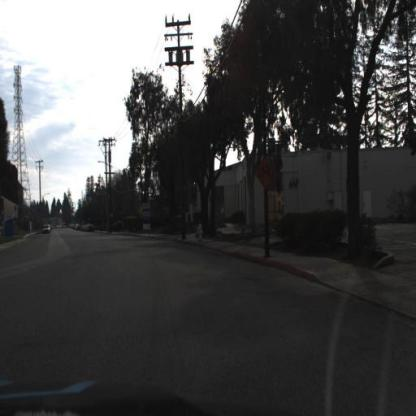car: (87, 225, 96, 234), (44, 226, 51, 235), (74, 225, 82, 231), (82, 226, 88, 232), (57, 226, 61, 230), (65, 226, 68, 229), (63, 226, 66, 229), (60, 226, 63, 229)
